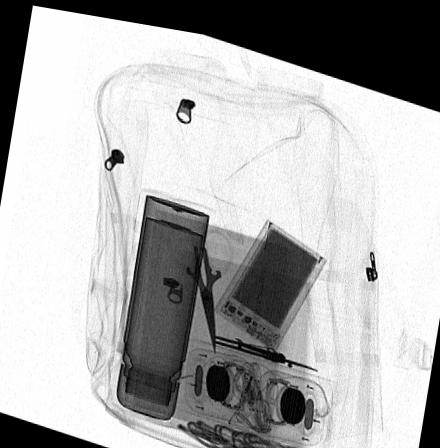Knife: (215, 326, 321, 361)
Powerbank: (212, 207, 329, 343)
Scissors: (166, 220, 235, 349)
